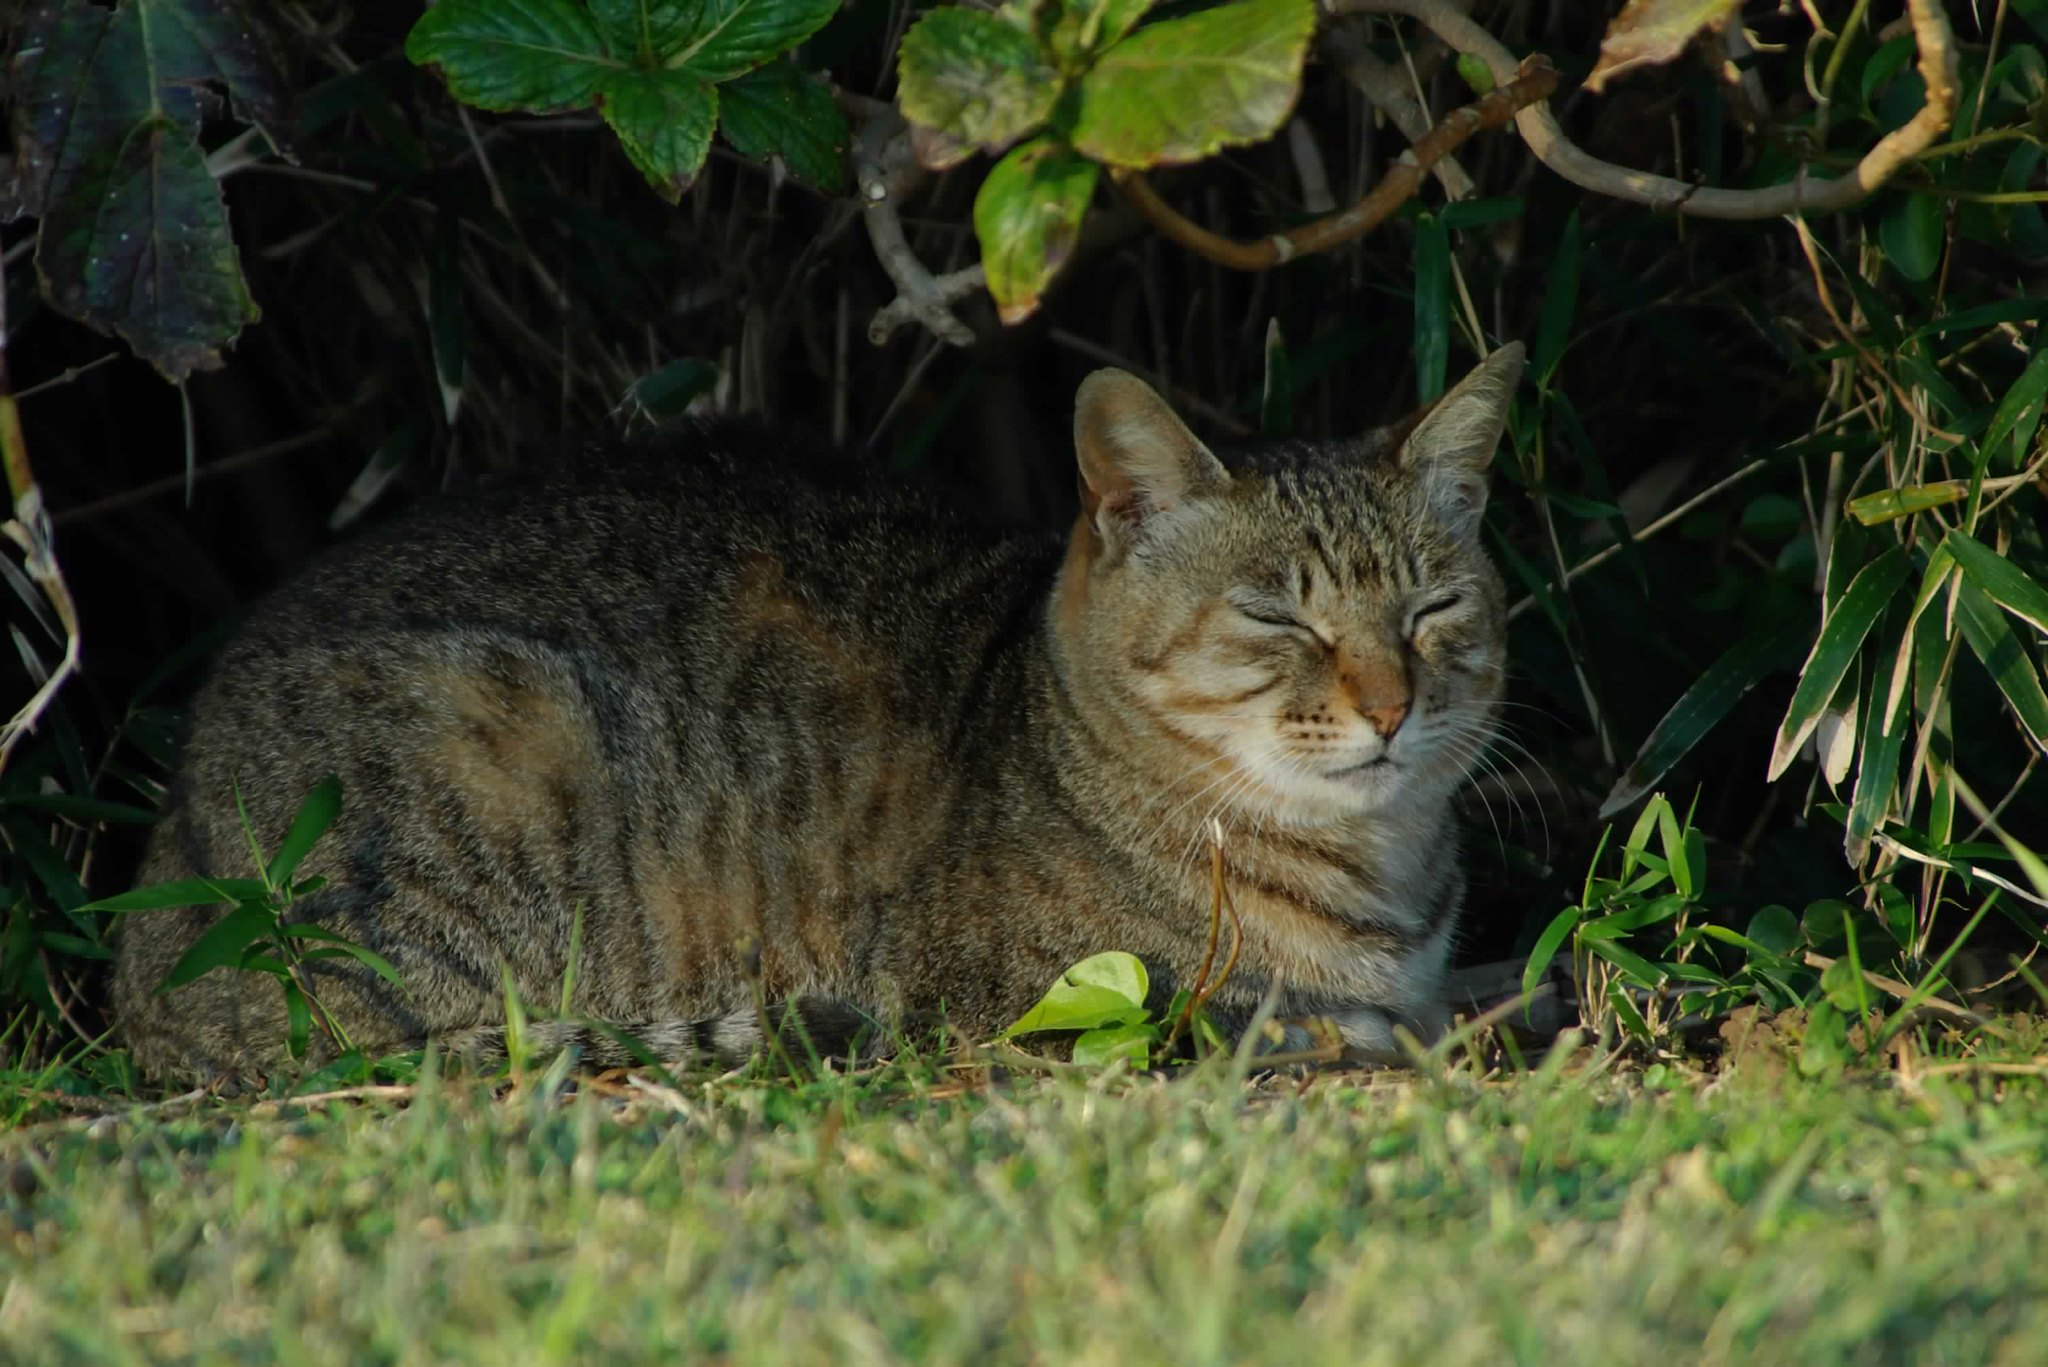cat: (124, 383, 1574, 1086)
